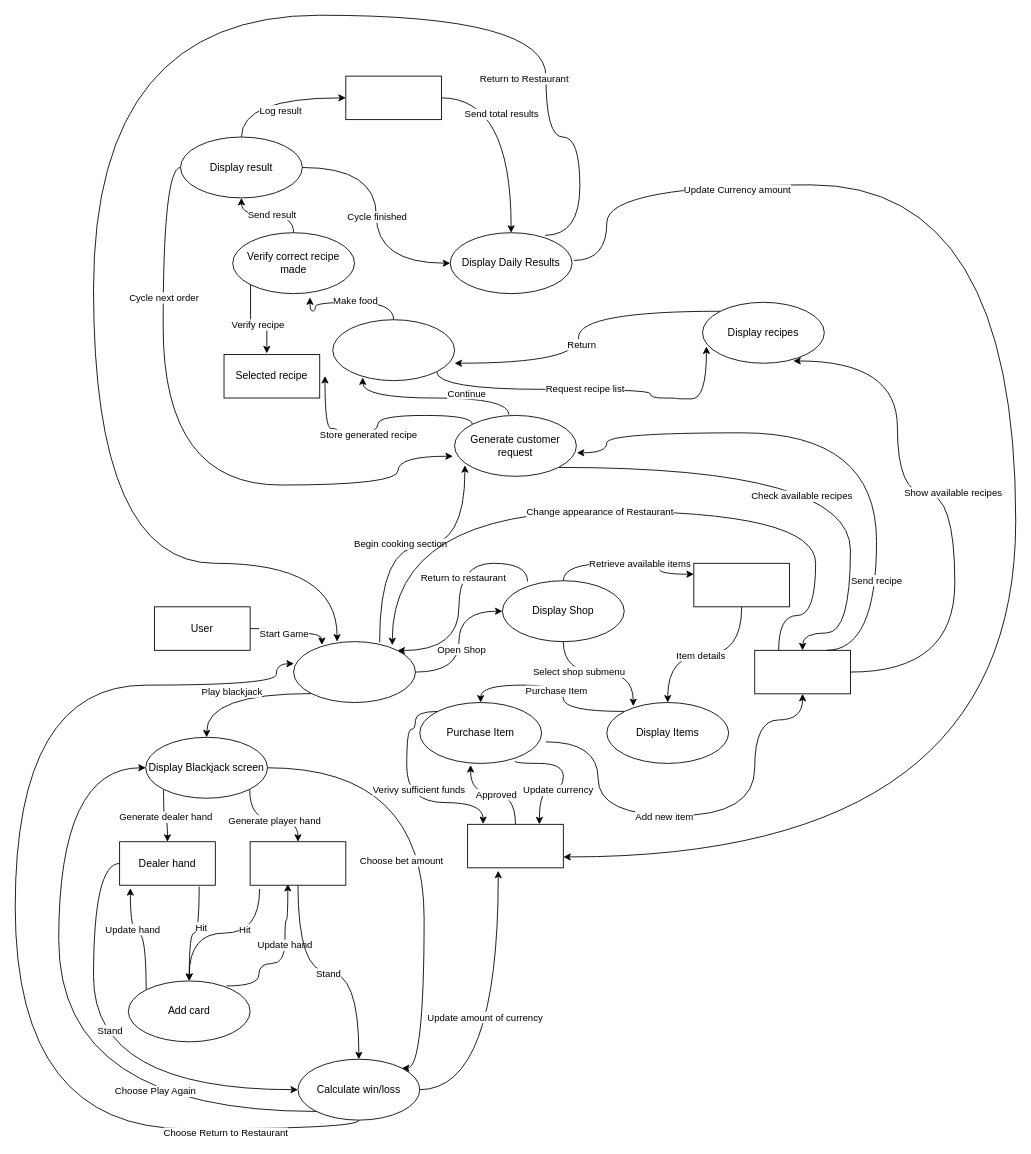
Image size: 1031x1154. Some labels were removed from this diagram. Each missing label, with the centre of its shape:
Currency amount: [515,845]
Daily results: [393,97]
Display cooking screen: [393,350]
Display main Restaurant View screen: [354,672]
Inventory database: [741,584]
Player hand: [297,863]
User's purchased Items: [802,671]
